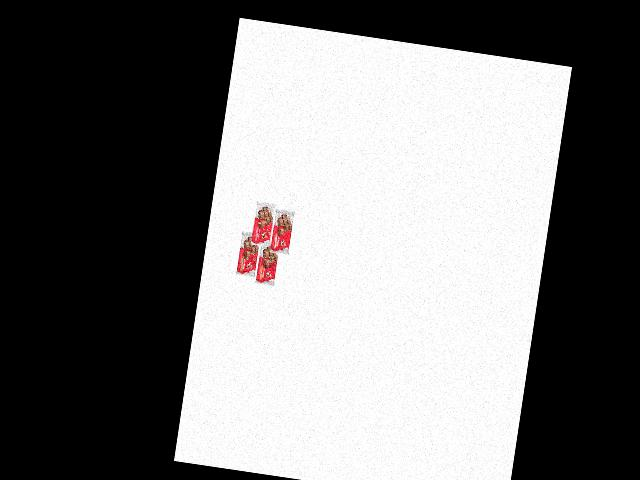chocolate: (232, 228, 265, 281)
